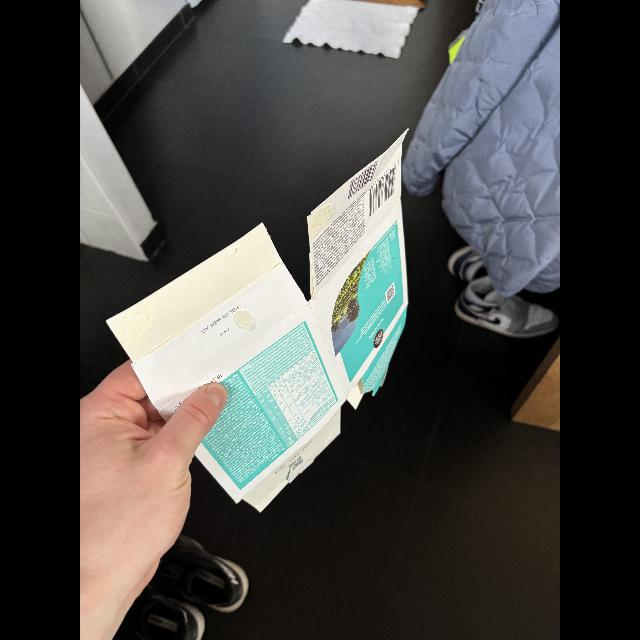Cardboard: (101, 125, 413, 513)
